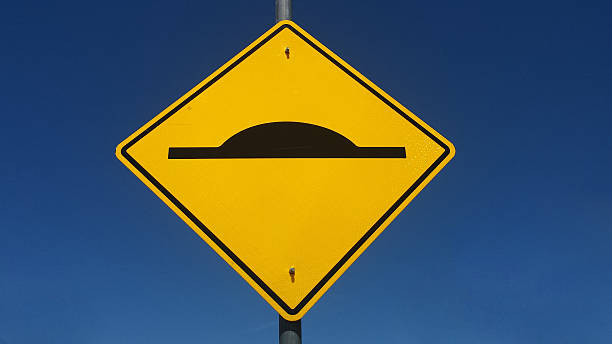speed-breaker: (114, 20, 456, 320)
